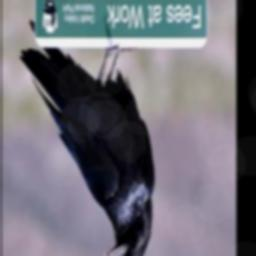Crow: (18, 17, 155, 256)
